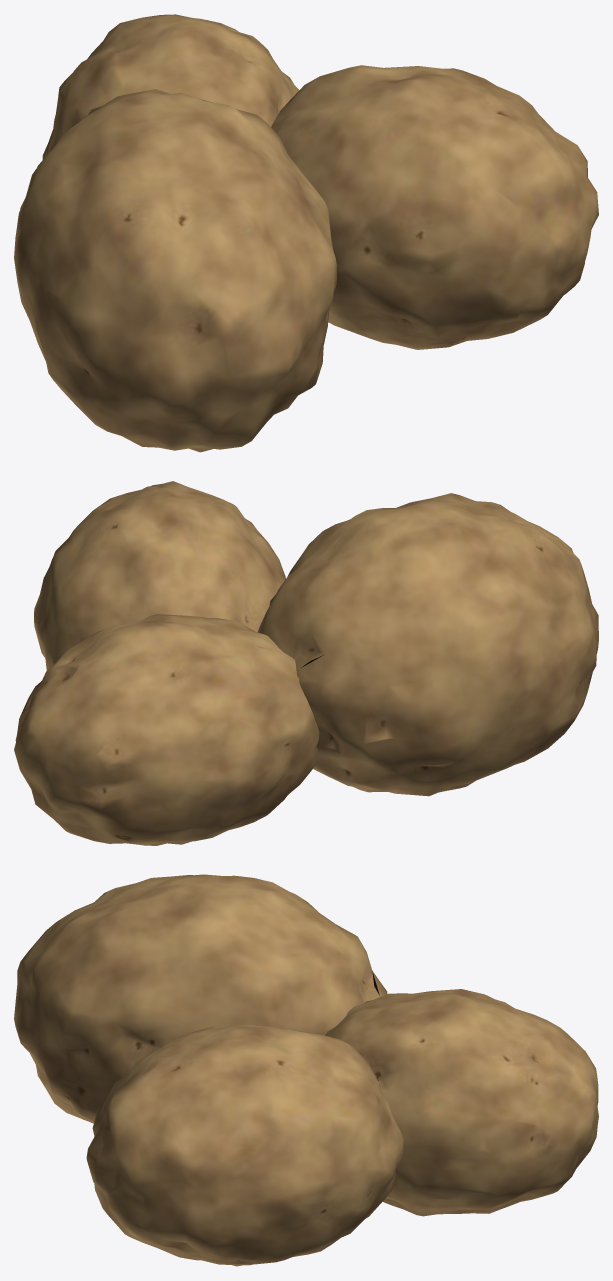
File: food_burst_runtime.glb
3 renders of one model, top to bottom at view 1: azimuth 30°, elevation 25°; view 2: azimuth 150°, elevation 25°; view 3: azimuth 270°, elevation 25°, orthographic. The views are drawn at different scales.
Parts seen in each view (by area): view 1: Papas_aprobadas; view 2: Papas_aprobadas; view 3: Papas_aprobadas.
Part boxes in pixels (left/top/right/bottom): Papas_aprobadas: left=14, top=14, right=598, bottom=452; Papas_aprobadas: left=14, top=481, right=598, bottom=845; Papas_aprobadas: left=14, top=874, right=598, bottom=1266.
Size of the model in its own units: 0.9903 by 0.5245 by 1.06.
1 material, 1 textured.
